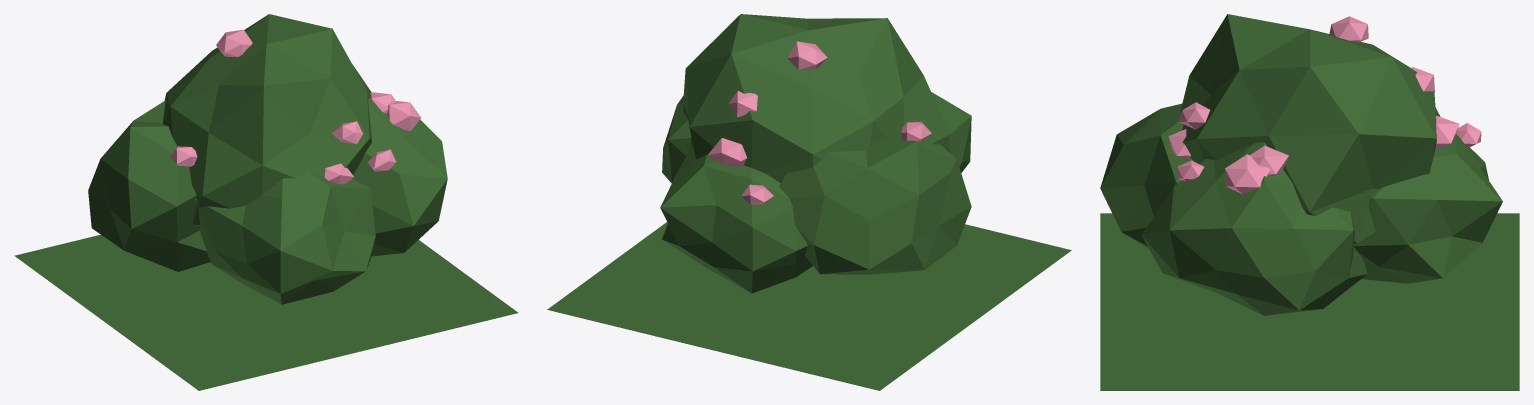
The picture shows the model from 3 angles, left to right: view 1: azimuth 30°, elevation 25°; view 2: azimuth 150°, elevation 25°; view 3: azimuth 270°, elevation 25°; orthographic projection. The views are drawn at different scales.
Visible parts, largest first — view 1: Foliage, Footprint, Flowers; view 2: Foliage, Footprint, Flowers; view 3: Foliage, Footprint, Flowers.
Part boxes in pixels (<box>): Foliage: <box>88,14,447,304</box>; Footprint: <box>14,234,518,390</box>; Flowers: <box>170,29,421,184</box>; Foliage: <box>660,14,971,293</box>; Footprint: <box>547,222,1071,390</box>; Flowers: <box>708,41,931,204</box>; Foliage: <box>1100,14,1502,315</box>; Footprint: <box>1100,213,1519,390</box>; Flowers: <box>1168,16,1481,194</box>.
Size of the model in its own units: 1.84 by 1.34 by 1.84.
